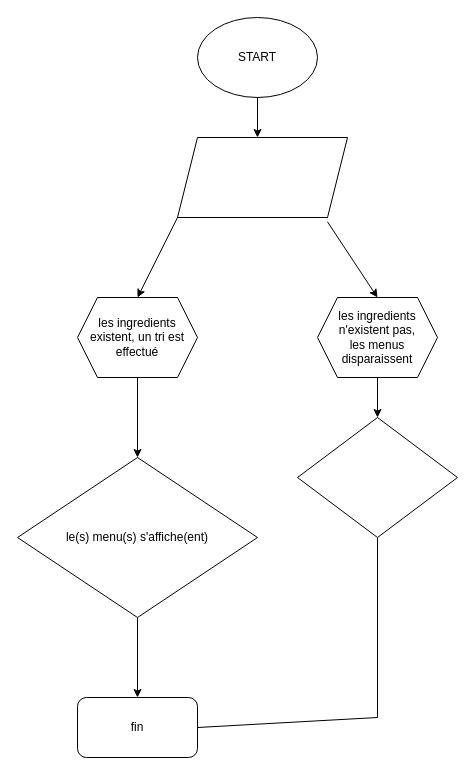
Some shapes in this 475 by 775 pixel diagram are drawn without their labels. Here are the shapes that lost their labels. From the top down, the centre of each, then its label:
At (x=262, y=177): "utilisateur tape 3 lettres dans la searchbar".
At (x=377, y=477): "message erreur et conseil de recherche".
